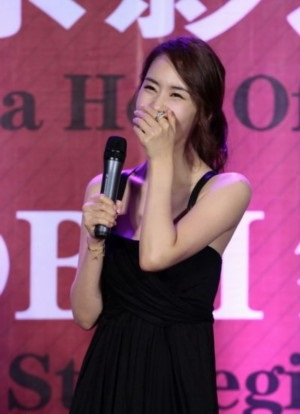face: (135, 56, 196, 143)
